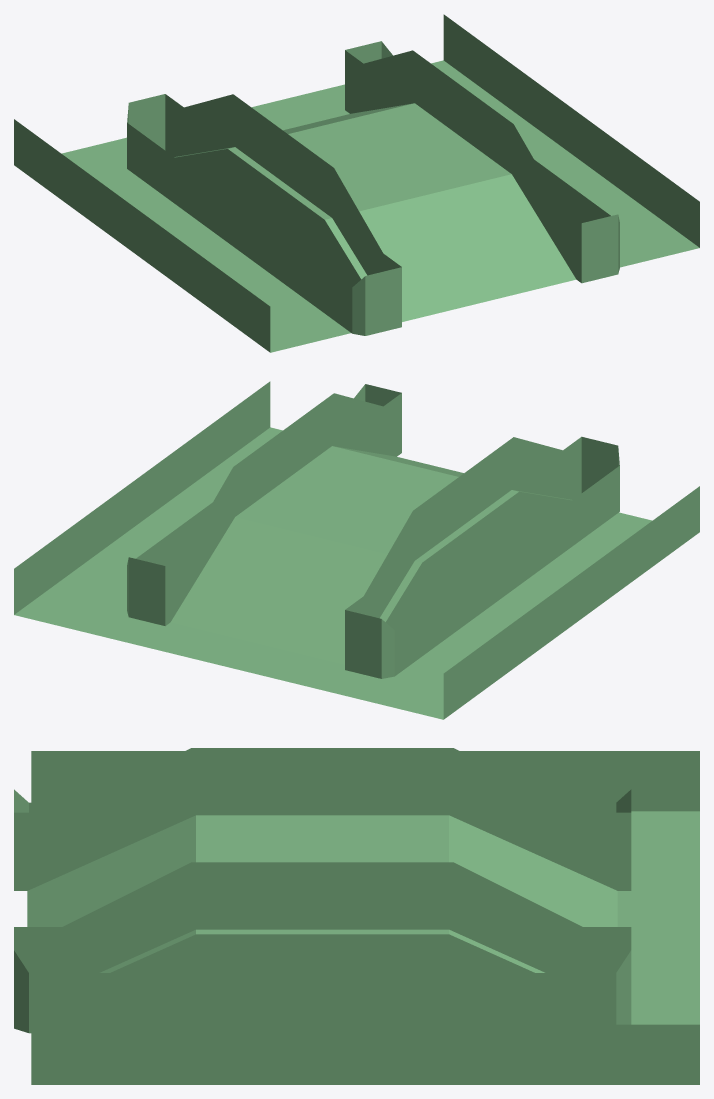
File: Hallway_I_16_C_COL.fbx
3 renders of one model, top to bottom at view 1: azimuth 30°, elevation 25°; view 2: azimuth 150°, elevation 25°; view 3: azimuth 270°, elevation 25°, orthographic. The views are drawn at different scales.
Visible parts, largest first — view 1: Hallway_I_16_C_COL; view 2: Hallway_I_16_C_COL; view 3: Hallway_I_16_C_COL.
Boxes of the visible parts, left/top/right/bottom form: Hallway_I_16_C_COL: left=14, top=14, right=699, bottom=352; Hallway_I_16_C_COL: left=14, top=381, right=699, bottom=719; Hallway_I_16_C_COL: left=14, top=748, right=699, bottom=1084.
Size of the model in its own units: 1548 by 377 by 1642.
